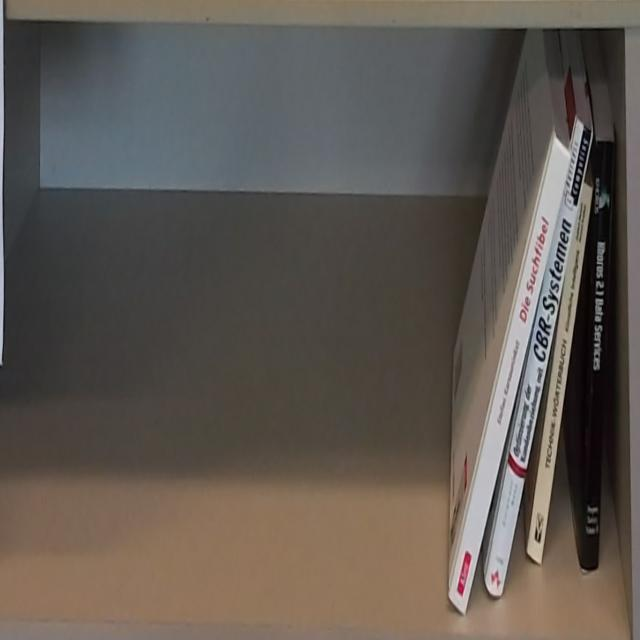Book Spine: (448, 139, 572, 618), (485, 118, 593, 599), (527, 182, 592, 568), (582, 139, 617, 570)
